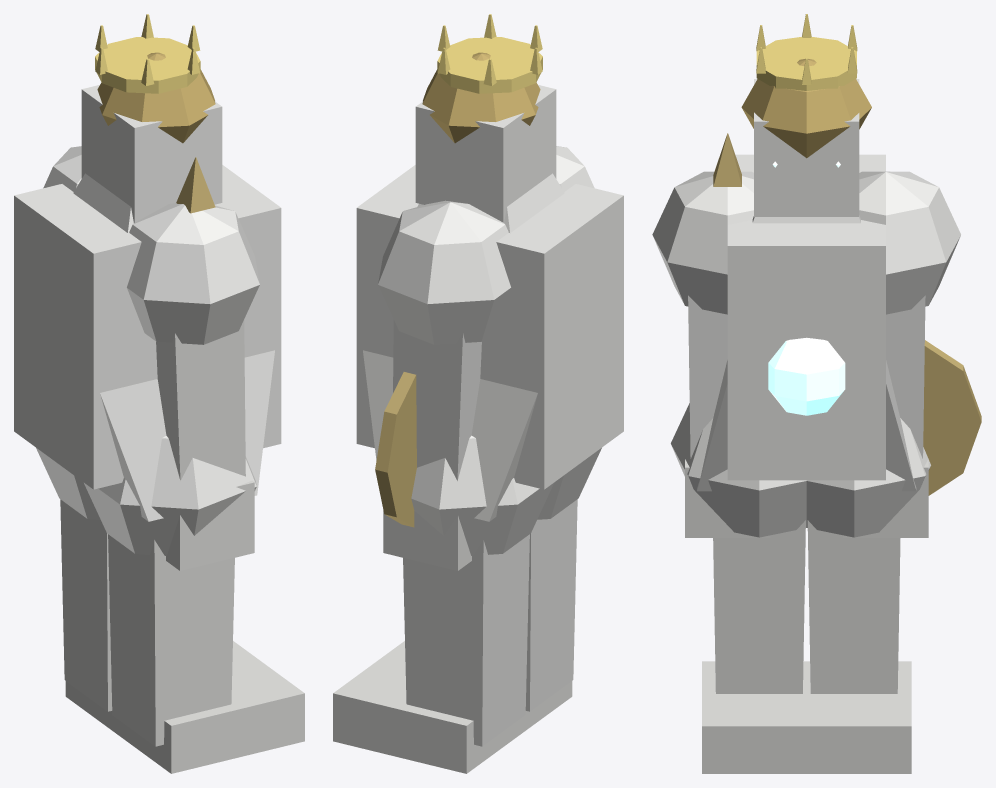
File: warden.glb
The picture shows the model from 3 angles, left to right: view 1: azimuth 30°, elevation 25°; view 2: azimuth 150°, elevation 25°; view 3: azimuth 270°, elevation 25°; orthographic projection.
Parts seen in each view (by area): view 1: body, legR, armR, head, legL, crown, helmet, spearhead; view 2: body, legL, head, armL, legR, crown, shield_face, helmet; view 3: body, legL, legR, head, shield_face, helmet, armL, armR, crown, core, spearhead.
Part boxes in pixels (box(x1,y1,x2,y2)): body: box(14, 146, 281, 555); legR: box(108, 534, 304, 773); armR: box(156, 319, 254, 570); head: box(81, 85, 222, 222); legL: box(60, 499, 256, 738); crown: box(95, 14, 200, 93); helmet: box(97, 52, 215, 143); spearhead: box(176, 157, 215, 213); body: box(356, 146, 623, 555); legL: box(333, 534, 529, 773); head: box(415, 85, 556, 222); armL: box(383, 319, 481, 570); legR: box(381, 499, 577, 738); crown: box(437, 14, 542, 93); shield_face: box(375, 372, 416, 527); helmet: box(422, 52, 540, 143); body: box(652, 154, 960, 537); legL: box(796, 520, 911, 773); legR: box(702, 520, 816, 773); head: box(754, 79, 859, 216); shield_face: box(923, 340, 981, 495); helmet: box(741, 59, 871, 158); armL: box(843, 295, 928, 537); armR: box(685, 295, 770, 537); crown: box(756, 14, 857, 90); core: box(768, 337, 845, 415); spearhead: box(713, 133, 741, 186).
Bounding box in the file's own units: 1.02 × 3.16 × 1.37.
